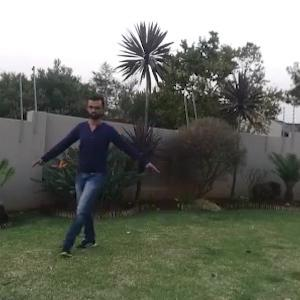land: (37, 95, 161, 247)
